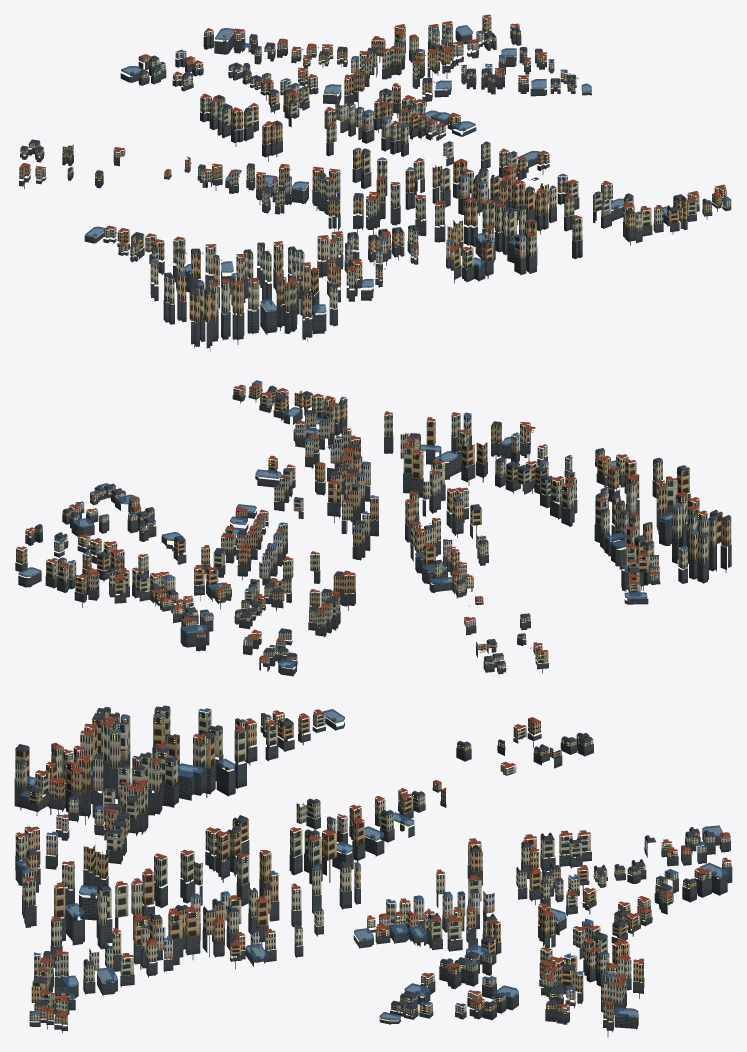
File: osm_buildings_T_W01_N01_Q4.glb
3 renders of one model, top to bottom at view 1: azimuth 30°, elevation 25°; view 2: azimuth 150°, elevation 25°; view 3: azimuth 270°, elevation 25°, orthographic. The views are drawn at different scales.
Parts seen in each view (by area): view 1: OSM_PBR_T_W01_N01_Q4_foundation, OSM_PBR_T_W01_N01_Q4_wall_cream_stucco, OSM_PBR_T_W01_N01_Q4_wall_french_ochre, OSM_PBR_T_W01_N01_Q4_roof_terracotta, OSM_PBR_T_W01_N01_Q4_roof_mansard_slate, OSM_PBR_T_W01_N01_Q4_greenhouse_blend, OSM_PBR_T_W01_N01_Q4_wall_warm_white, OSM_PBR_T_W01_N01_Q4_wall_pastel_sand, OSM_PBR_T_W01_N01_Q4_roof_mansard_deck, OSM_PBR_T_W01_N01_Q4_roof_mint_metal, OSM_PBR_T_W01_N01_Q4_trim_cornice, OSM_PBR_T_W01_N01_Q4_roof_alpine_blue; view 2: OSM_PBR_T_W01_N01_Q4_foundation, OSM_PBR_T_W01_N01_Q4_wall_cream_stucco, OSM_PBR_T_W01_N01_Q4_wall_french_ochre, OSM_PBR_T_W01_N01_Q4_roof_terracotta, OSM_PBR_T_W01_N01_Q4_roof_mansard_slate, OSM_PBR_T_W01_N01_Q4_greenhouse_blend, OSM_PBR_T_W01_N01_Q4_wall_warm_white, OSM_PBR_T_W01_N01_Q4_roof_mansard_deck, OSM_PBR_T_W01_N01_Q4_wall_pastel_sand, OSM_PBR_T_W01_N01_Q4_trim_cornice, OSM_PBR_T_W01_N01_Q4_roof_mint_metal, OSM_PBR_T_W01_N01_Q4_balcony_railing (+1 smaller); view 3: OSM_PBR_T_W01_N01_Q4_foundation, OSM_PBR_T_W01_N01_Q4_wall_cream_stucco, OSM_PBR_T_W01_N01_Q4_wall_french_ochre, OSM_PBR_T_W01_N01_Q4_roof_terracotta, OSM_PBR_T_W01_N01_Q4_greenhouse_blend, OSM_PBR_T_W01_N01_Q4_roof_mansard_slate, OSM_PBR_T_W01_N01_Q4_wall_warm_white, OSM_PBR_T_W01_N01_Q4_roof_mansard_deck, OSM_PBR_T_W01_N01_Q4_wall_pastel_sand, OSM_PBR_T_W01_N01_Q4_roof_mint_metal, OSM_PBR_T_W01_N01_Q4_trim_cornice, OSM_PBR_T_W01_N01_Q4_balcony_railing (+2 smaller).
Part boxes in pixels (x1=…): OSM_PBR_T_W01_N01_Q4_foundation: x1=19, y1=30, x2=731, y2=350; OSM_PBR_T_W01_N01_Q4_wall_cream_stucco: x1=20, y1=23, x2=731, y2=317; OSM_PBR_T_W01_N01_Q4_wall_french_ochre: x1=19, y1=16, x2=726, y2=323; OSM_PBR_T_W01_N01_Q4_roof_terracotta: x1=19, y1=14, x2=726, y2=285; OSM_PBR_T_W01_N01_Q4_roof_mansard_slate: x1=20, y1=27, x2=711, y2=296; OSM_PBR_T_W01_N01_Q4_greenhouse_blend: x1=85, y1=25, x2=666, y2=313; OSM_PBR_T_W01_N01_Q4_wall_warm_white: x1=152, y1=67, x2=548, y2=291; OSM_PBR_T_W01_N01_Q4_wall_pastel_sand: x1=138, y1=32, x2=611, y2=262; OSM_PBR_T_W01_N01_Q4_roof_mansard_deck: x1=22, y1=27, x2=710, y2=312; OSM_PBR_T_W01_N01_Q4_roof_mint_metal: x1=19, y1=22, x2=725, y2=300; OSM_PBR_T_W01_N01_Q4_trim_cornice: x1=20, y1=19, x2=726, y2=298; OSM_PBR_T_W01_N01_Q4_roof_alpine_blue: x1=151, y1=28, x2=730, y2=284; OSM_PBR_T_W01_N01_Q4_foundation: x1=15, y1=388, x2=731, y2=676; OSM_PBR_T_W01_N01_Q4_wall_cream_stucco: x1=46, y1=382, x2=716, y2=668; OSM_PBR_T_W01_N01_Q4_wall_french_ochre: x1=16, y1=385, x2=731, y2=663; OSM_PBR_T_W01_N01_Q4_roof_terracotta: x1=16, y1=384, x2=707, y2=659; OSM_PBR_T_W01_N01_Q4_roof_mansard_slate: x1=35, y1=386, x2=730, y2=665; OSM_PBR_T_W01_N01_Q4_greenhouse_blend: x1=18, y1=407, x2=672, y2=668; OSM_PBR_T_W01_N01_Q4_wall_warm_white: x1=139, y1=434, x2=697, y2=640; OSM_PBR_T_W01_N01_Q4_roof_mansard_deck: x1=19, y1=385, x2=729, y2=667; OSM_PBR_T_W01_N01_Q4_wall_pastel_sand: x1=54, y1=414, x2=575, y2=663; OSM_PBR_T_W01_N01_Q4_trim_cornice: x1=19, y1=384, x2=730, y2=667; OSM_PBR_T_W01_N01_Q4_roof_mint_metal: x1=17, y1=391, x2=725, y2=668; OSM_PBR_T_W01_N01_Q4_balcony_railing: x1=23, y1=388, x2=702, y2=658; OSM_PBR_T_W01_N01_Q4_foundation: x1=14, y1=718, x2=732, y2=1036; OSM_PBR_T_W01_N01_Q4_wall_cream_stucco: x1=15, y1=708, x2=731, y2=1021; OSM_PBR_T_W01_N01_Q4_wall_french_ochre: x1=15, y1=710, x2=699, y2=1024; OSM_PBR_T_W01_N01_Q4_roof_terracotta: x1=16, y1=709, x2=731, y2=1016; OSM_PBR_T_W01_N01_Q4_greenhouse_blend: x1=16, y1=709, x2=727, y2=1020; OSM_PBR_T_W01_N01_Q4_roof_mansard_slate: x1=15, y1=706, x2=714, y2=1009; OSM_PBR_T_W01_N01_Q4_wall_warm_white: x1=46, y1=719, x2=647, y2=963; OSM_PBR_T_W01_N01_Q4_roof_mansard_deck: x1=16, y1=705, x2=723, y2=1020; OSM_PBR_T_W01_N01_Q4_wall_pastel_sand: x1=22, y1=789, x2=730, y2=1013; OSM_PBR_T_W01_N01_Q4_roof_mint_metal: x1=15, y1=717, x2=729, y2=1024; OSM_PBR_T_W01_N01_Q4_trim_cornice: x1=15, y1=709, x2=729, y2=1022; OSM_PBR_T_W01_N01_Q4_balcony_railing: x1=15, y1=713, x2=730, y2=1012.
Bounding box in the file's own units: 1014 × 132 × 987.
Materials: 18 (16 with a texture image).
